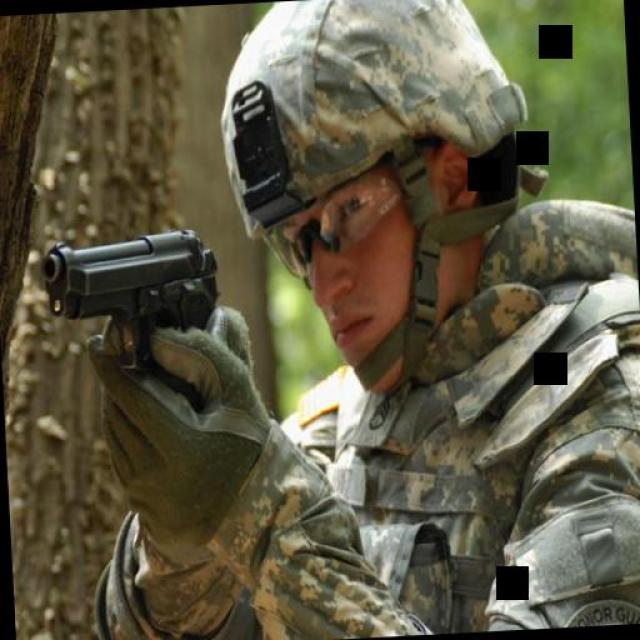gun: (38, 216, 234, 415)
